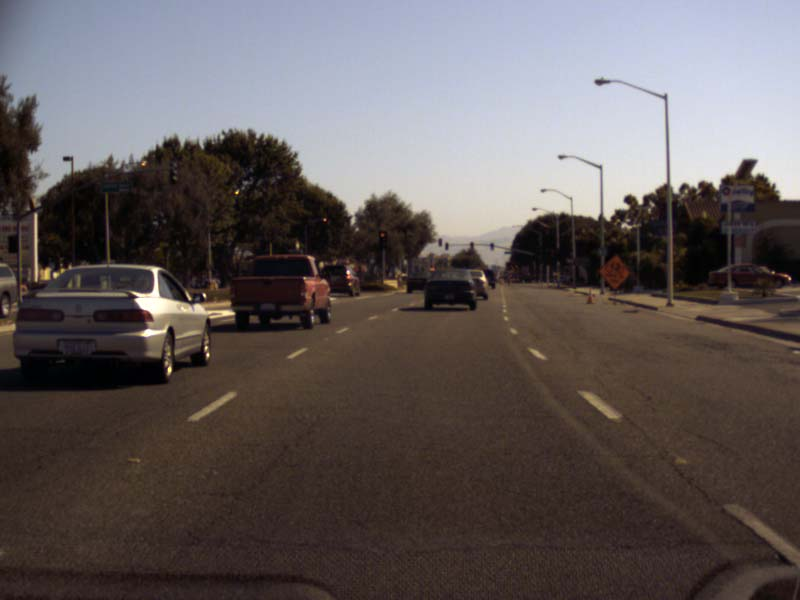Green: (469, 242, 474, 251), (489, 242, 493, 250)
Red: (378, 230, 386, 248), (444, 241, 448, 250)
